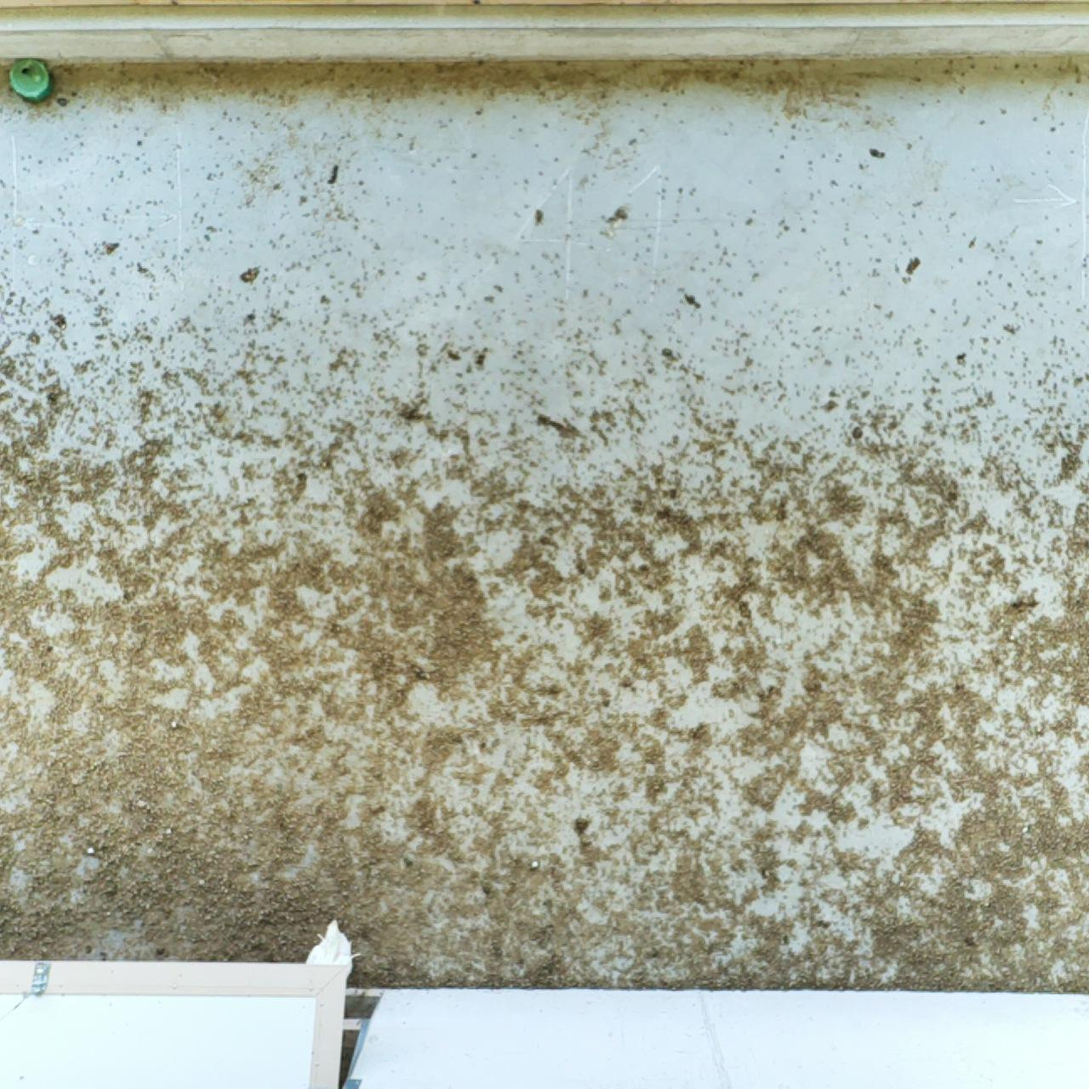chicken: (304, 916, 362, 980)
